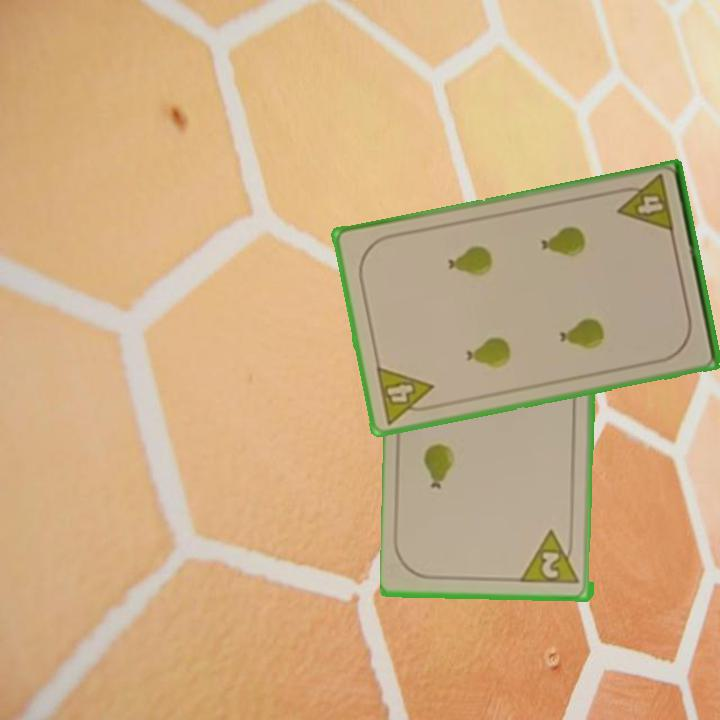2p: (520, 527, 583, 588)
4p: (372, 362, 440, 427), (611, 171, 677, 236)
